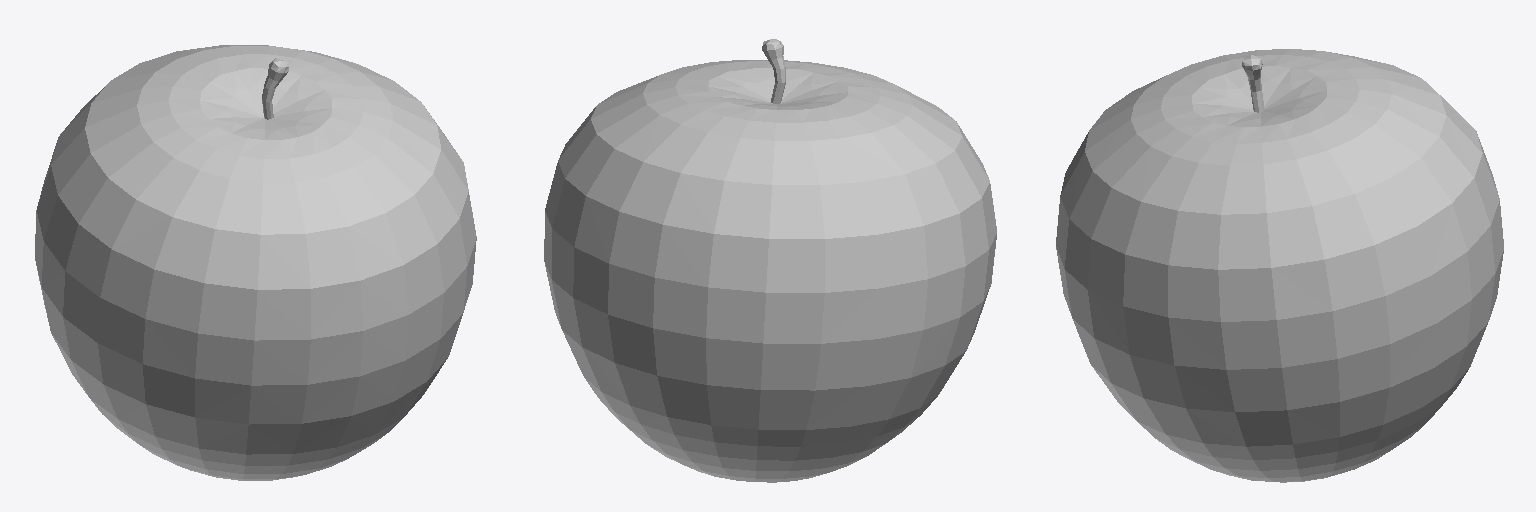
Rendered from apple1_green.obj.
3 renders of one model, left to right at view 1: azimuth 30°, elevation 25°; view 2: azimuth 150°, elevation 25°; view 3: azimuth 270°, elevation 25°, orthographic.
Visible parts, largest first — view 1: Green_Apple_OBJ; view 2: Green_Apple_OBJ; view 3: Green_Apple_OBJ.
Boxes of the visible parts, <box> form: Green_Apple_OBJ: <box>35,45,476,480</box>; Green_Apple_OBJ: <box>544,39,996,482</box>; Green_Apple_OBJ: <box>1056,49,1503,482</box>.
Size of the model in its own units: 0.0604 by 0.0604 by 0.0604.